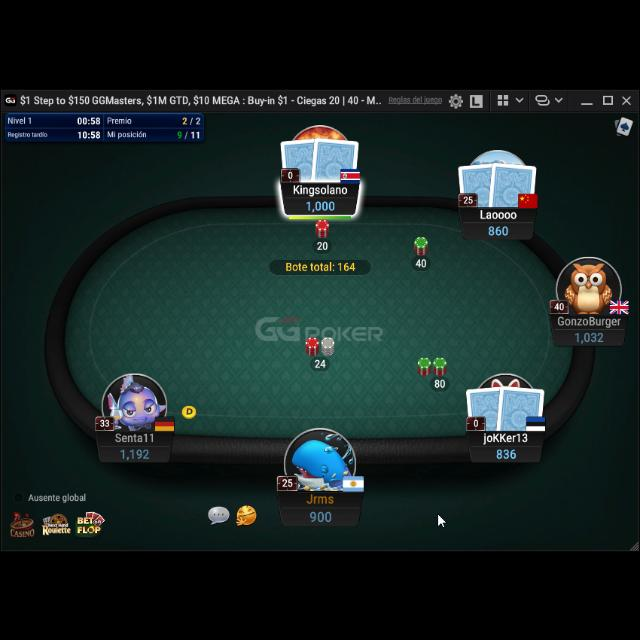bet_text: (432, 374, 448, 386), (414, 255, 428, 265), (313, 356, 327, 366), (315, 238, 329, 248)
card_back: (496, 379, 546, 429), (309, 132, 361, 180), (489, 155, 538, 205), (456, 156, 499, 204), (278, 134, 322, 180), (466, 380, 506, 428)
dealer: (180, 401, 198, 417)
pot_text: (283, 256, 357, 270)
stack_text: (307, 504, 333, 522), (119, 444, 151, 458), (305, 198, 335, 212), (575, 326, 605, 339), (487, 220, 509, 234), (496, 444, 518, 456)
